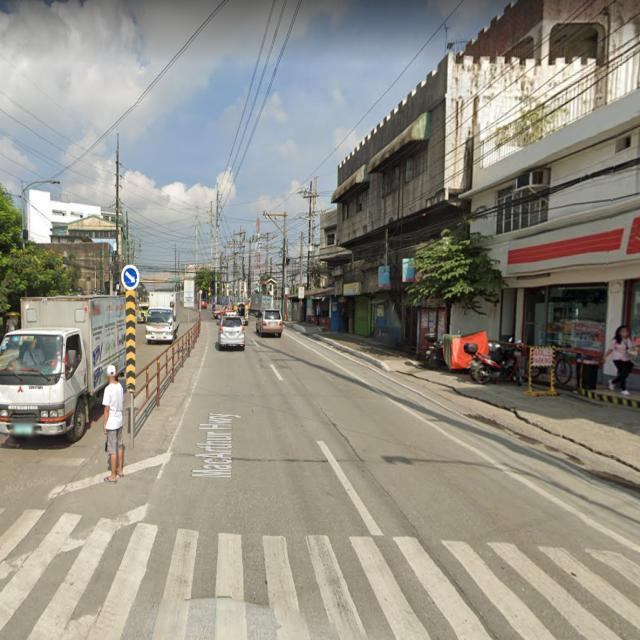keep right: (118, 262, 143, 291)
